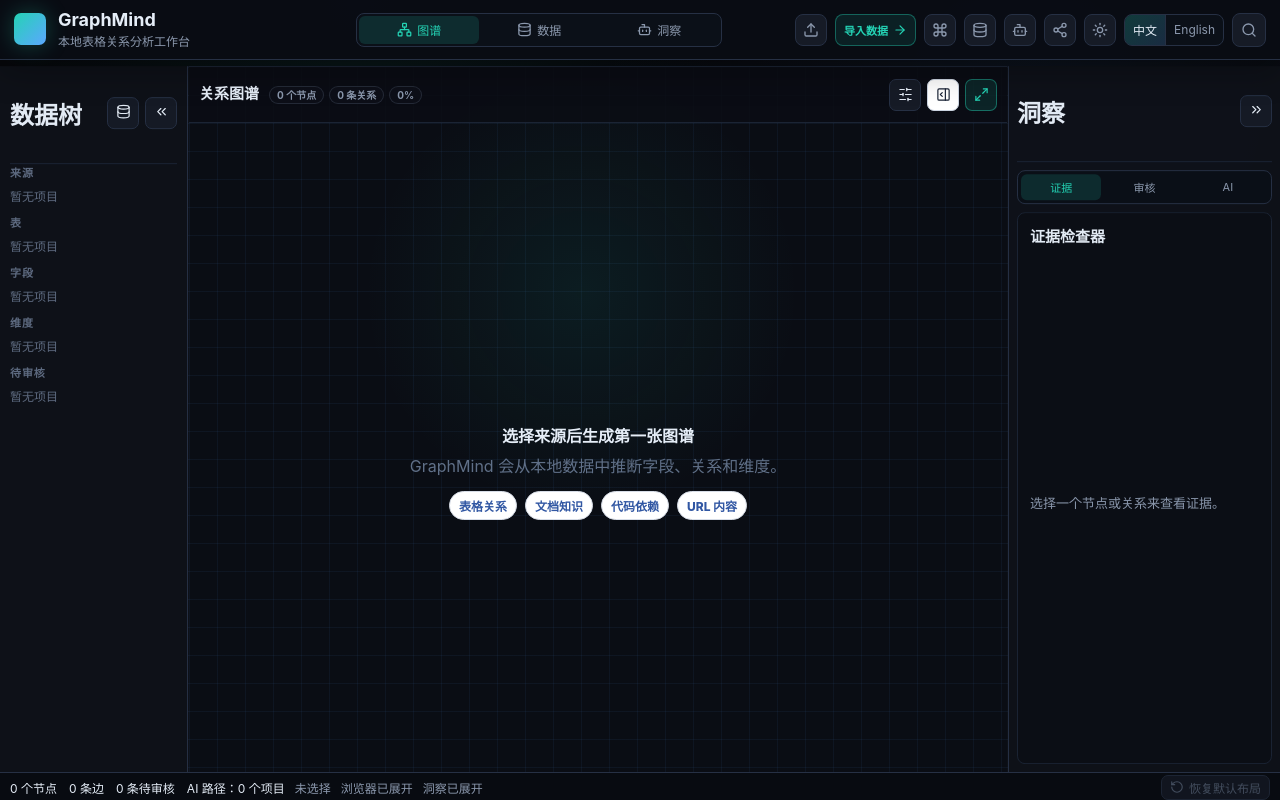
Test: App relationship review wiring › updates import tasks from the import event stream
Click the button named "数据操作" at (123,114), box x1=107 y1=98 x2=139 y2=130
(page scrolled)
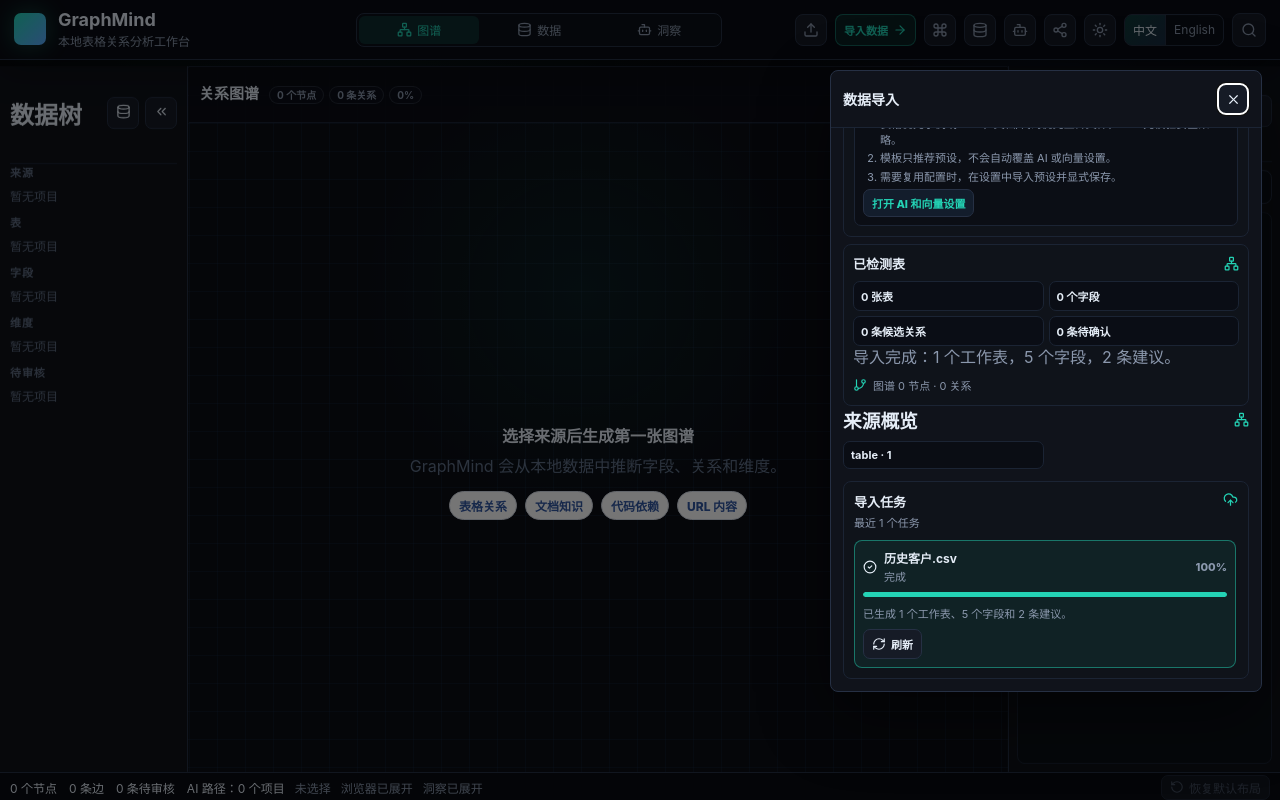
Check: the text "历史客户.csv" is shown, box x1=884 y1=551 x2=957 y2=566
Check: the text "完成" is shown, box x1=884 y1=570 x2=906 y2=584
